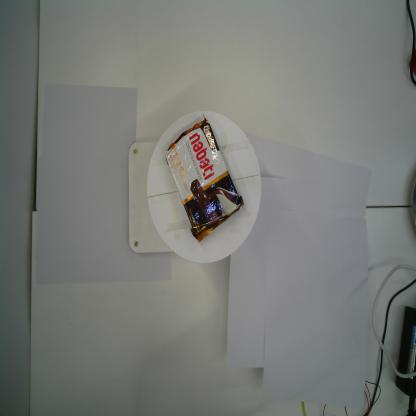Dessert: (165, 112, 246, 246)
